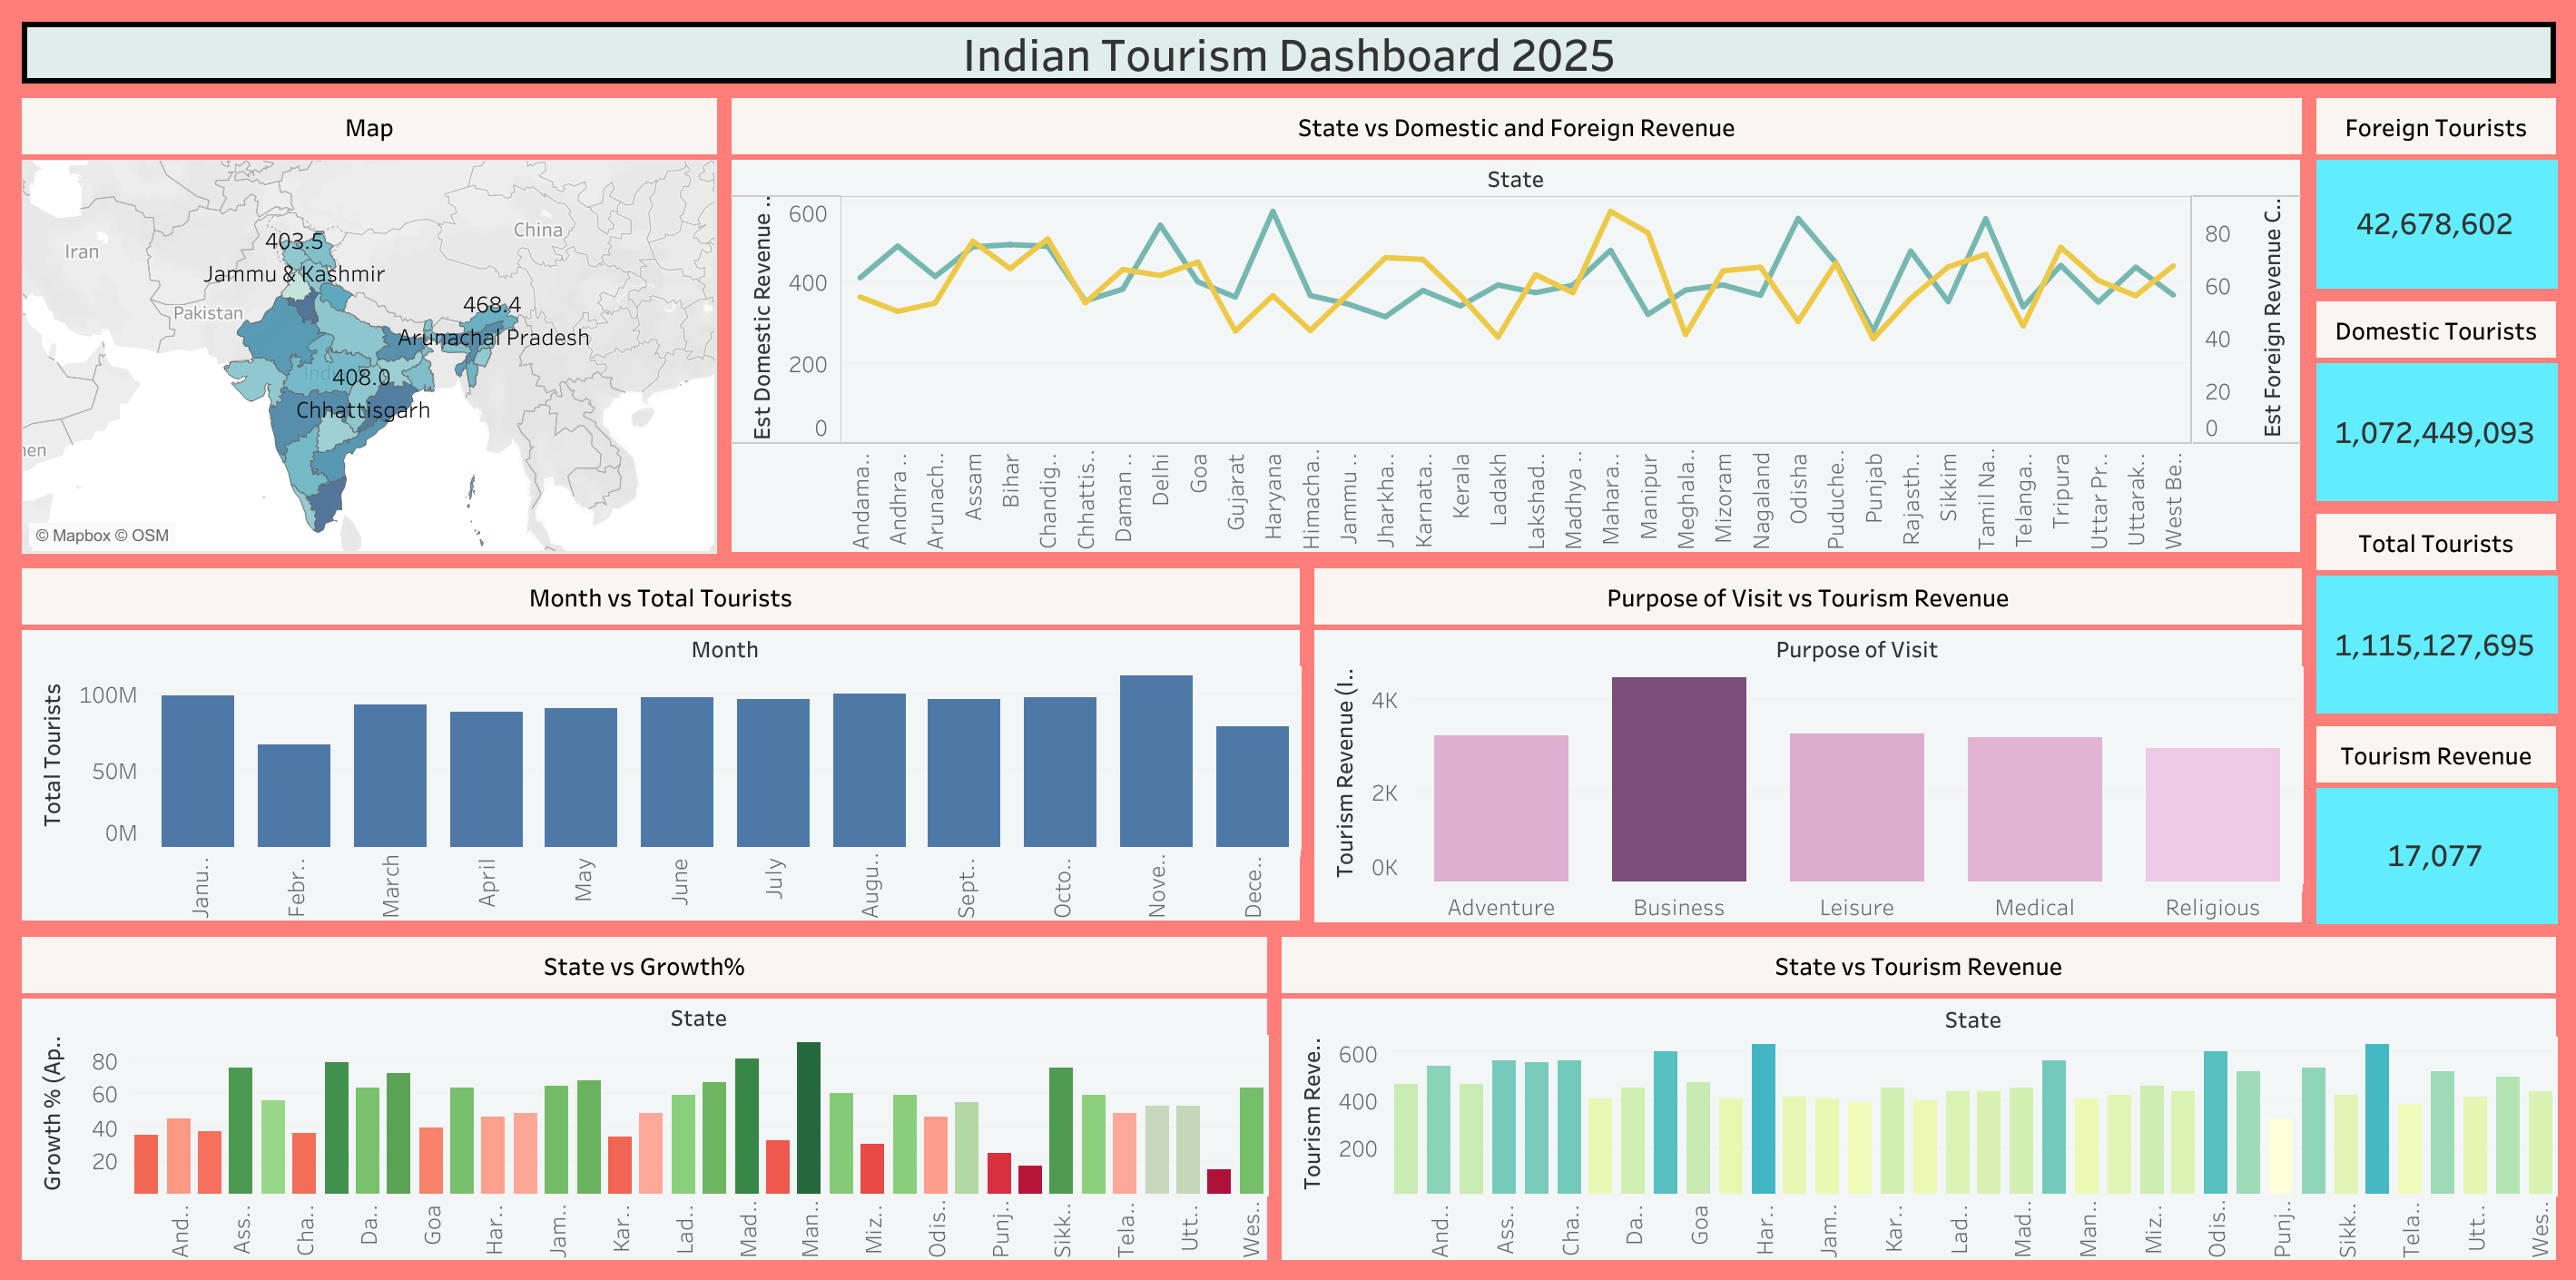

The dashboard page shown, as its layout file describes it:
{"tool":"tableau","page":{"name":"Indian Tourism Dashboard 2025","canvas":[1000,1000],"units":"permille","ordinal":0},"visuals":[{"type":"title","box":[4.2,7.4,991.7,38]},{"type":"worksheet","title":"Map","mark":"Multipolygon","box":[4.2,45.4,276,379.2]},{"type":"worksheet","title":"State vs Domestic and Foreign Revenue","mark":"Line","rows":["Est_Domestic_Revenue_Crore","Est_Foreign_Revenue_Crore"],"cols":["State"],"box":[280.2,45.4,616.7,379.2]},{"type":"worksheet","title":"Foreign Tourists","mark":"Automatic","box":[896.9,45.4,99,163.8]},{"type":"worksheet","title":"Domestic Tourists","mark":"Automatic","box":[896.9,209.2,99,171.4]},{"type":"worksheet","title":"Total Tourists","mark":"Automatic","box":[896.9,380.6,99,171.3]},{"type":"worksheet","title":"Month vs Total Tourists","mark":"Automatic","rows":["Total Tourists"],"cols":["Month"],"box":[4.2,424.6,503.1,296.5]},{"type":"worksheet","title":"Purpose of Visit vs Tourism Revenue","mark":"Automatic","rows":["Tourism Revenue (INR Crore)"],"cols":["Purpose of Visit"],"box":[507.3,424.6,389.6,296.5]},{"type":"worksheet","title":"Tourism Revenue","mark":"Automatic","box":[896.9,551.9,99,169.2]},{"type":"worksheet","title":"State vs Growth%","mark":"Automatic","rows":["Growth % (Approx.)"],"cols":["State"],"box":[4.2,721.1,490.1,271.5]},{"type":"worksheet","title":"State vs Tourism Revenue","mark":"Automatic","rows":["Tourism Revenue (INR Crore)"],"cols":["State"],"box":[494.3,721.1,501.6,271.5]}]}

Visuals, with their boxes on the dashboard's canvas, which has no fixed pixel size, in thousandths of its width and height (x1, y1, x2, y2). These are canvas units, not pixel positions in the 2576x1280 screenshot, which may show the page scaled, cropped or inside an application window:
title: (4, 7, 996, 45)
"Map" worksheet (Multipolygon marks): (4, 45, 280, 425)
"State vs Domestic and Foreign Revenue" worksheet (Line marks): (280, 45, 897, 425)
"Foreign Tourists" worksheet: (897, 45, 996, 209)
"Domestic Tourists" worksheet: (897, 209, 996, 381)
"Total Tourists" worksheet: (897, 381, 996, 552)
"Month vs Total Tourists" worksheet: (4, 425, 507, 721)
"Purpose of Visit vs Tourism Revenue" worksheet: (507, 425, 897, 721)
"Tourism Revenue" worksheet: (897, 552, 996, 721)
"State vs Growth%" worksheet: (4, 721, 494, 993)
"State vs Tourism Revenue" worksheet: (494, 721, 996, 993)
